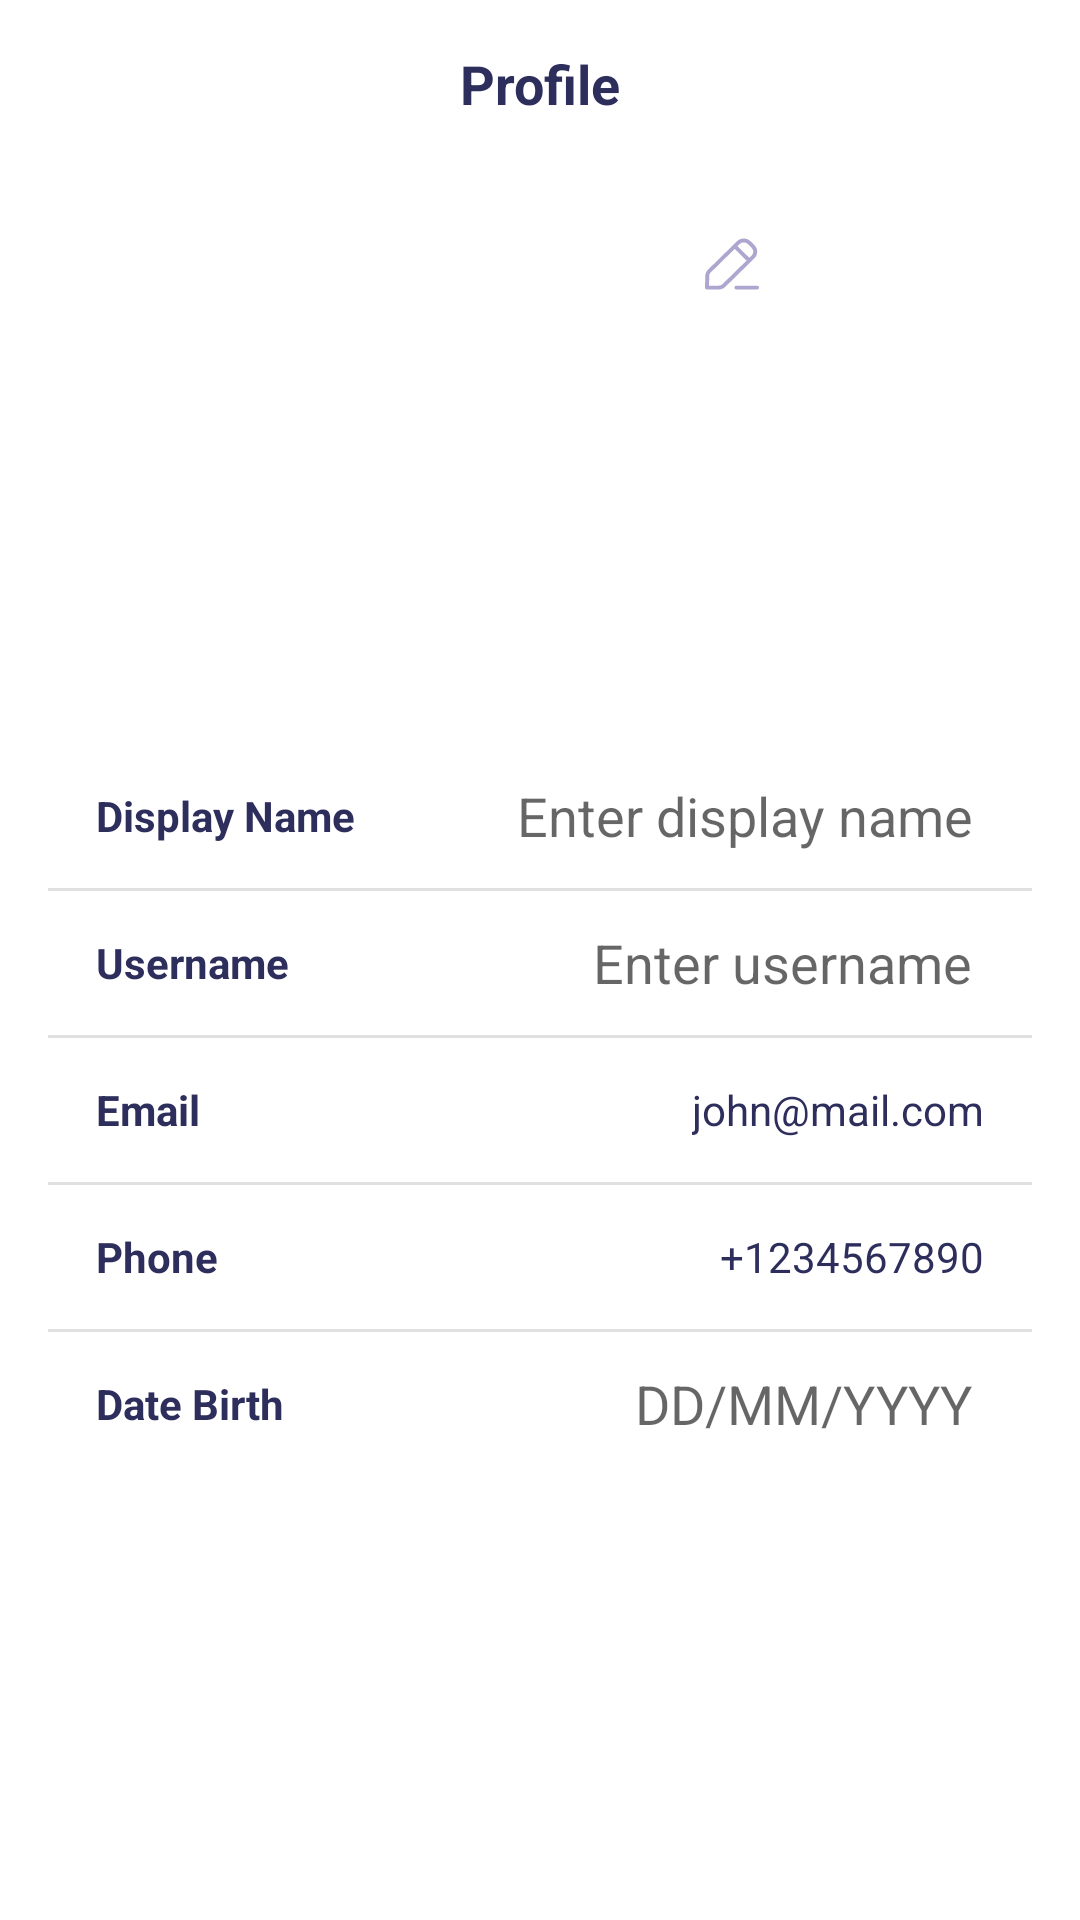

Screen size 1080px×1920px. Icon name, then its box in pixels as (x1, y1, x2, y2):
edit: (705, 238, 759, 290)
